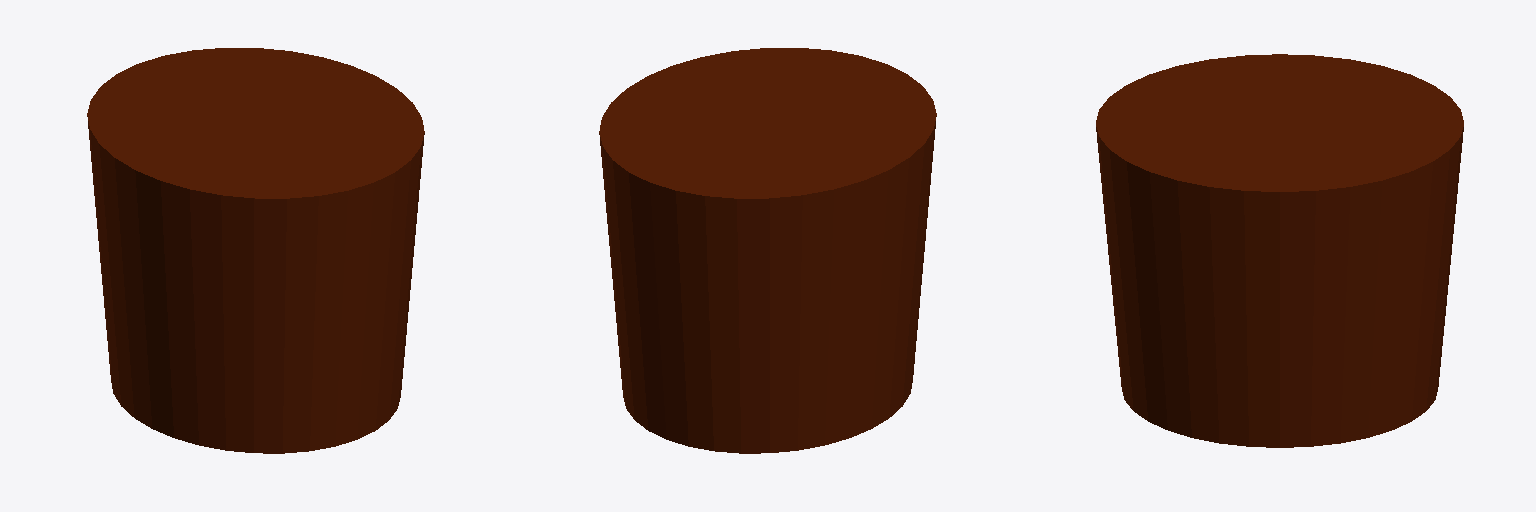
The model's file is cap.obj.
3 renders of one model, left to right at view 1: azimuth 30°, elevation 25°; view 2: azimuth 150°, elevation 25°; view 3: azimuth 270°, elevation 25°, orthographic.
Parts seen in each view (by area): view 1: Cylinder_001_Cylinder_002; view 2: Cylinder_001_Cylinder_002; view 3: Cylinder_001_Cylinder_002.
Boxes of the visible parts, box(x1,y1,x2,y2) form: Cylinder_001_Cylinder_002: box(87, 48, 424, 453); Cylinder_001_Cylinder_002: box(599, 48, 936, 453); Cylinder_001_Cylinder_002: box(1096, 54, 1463, 447).
Bounding box in the file's own units: 24.22 × 21.74 × 27.36.